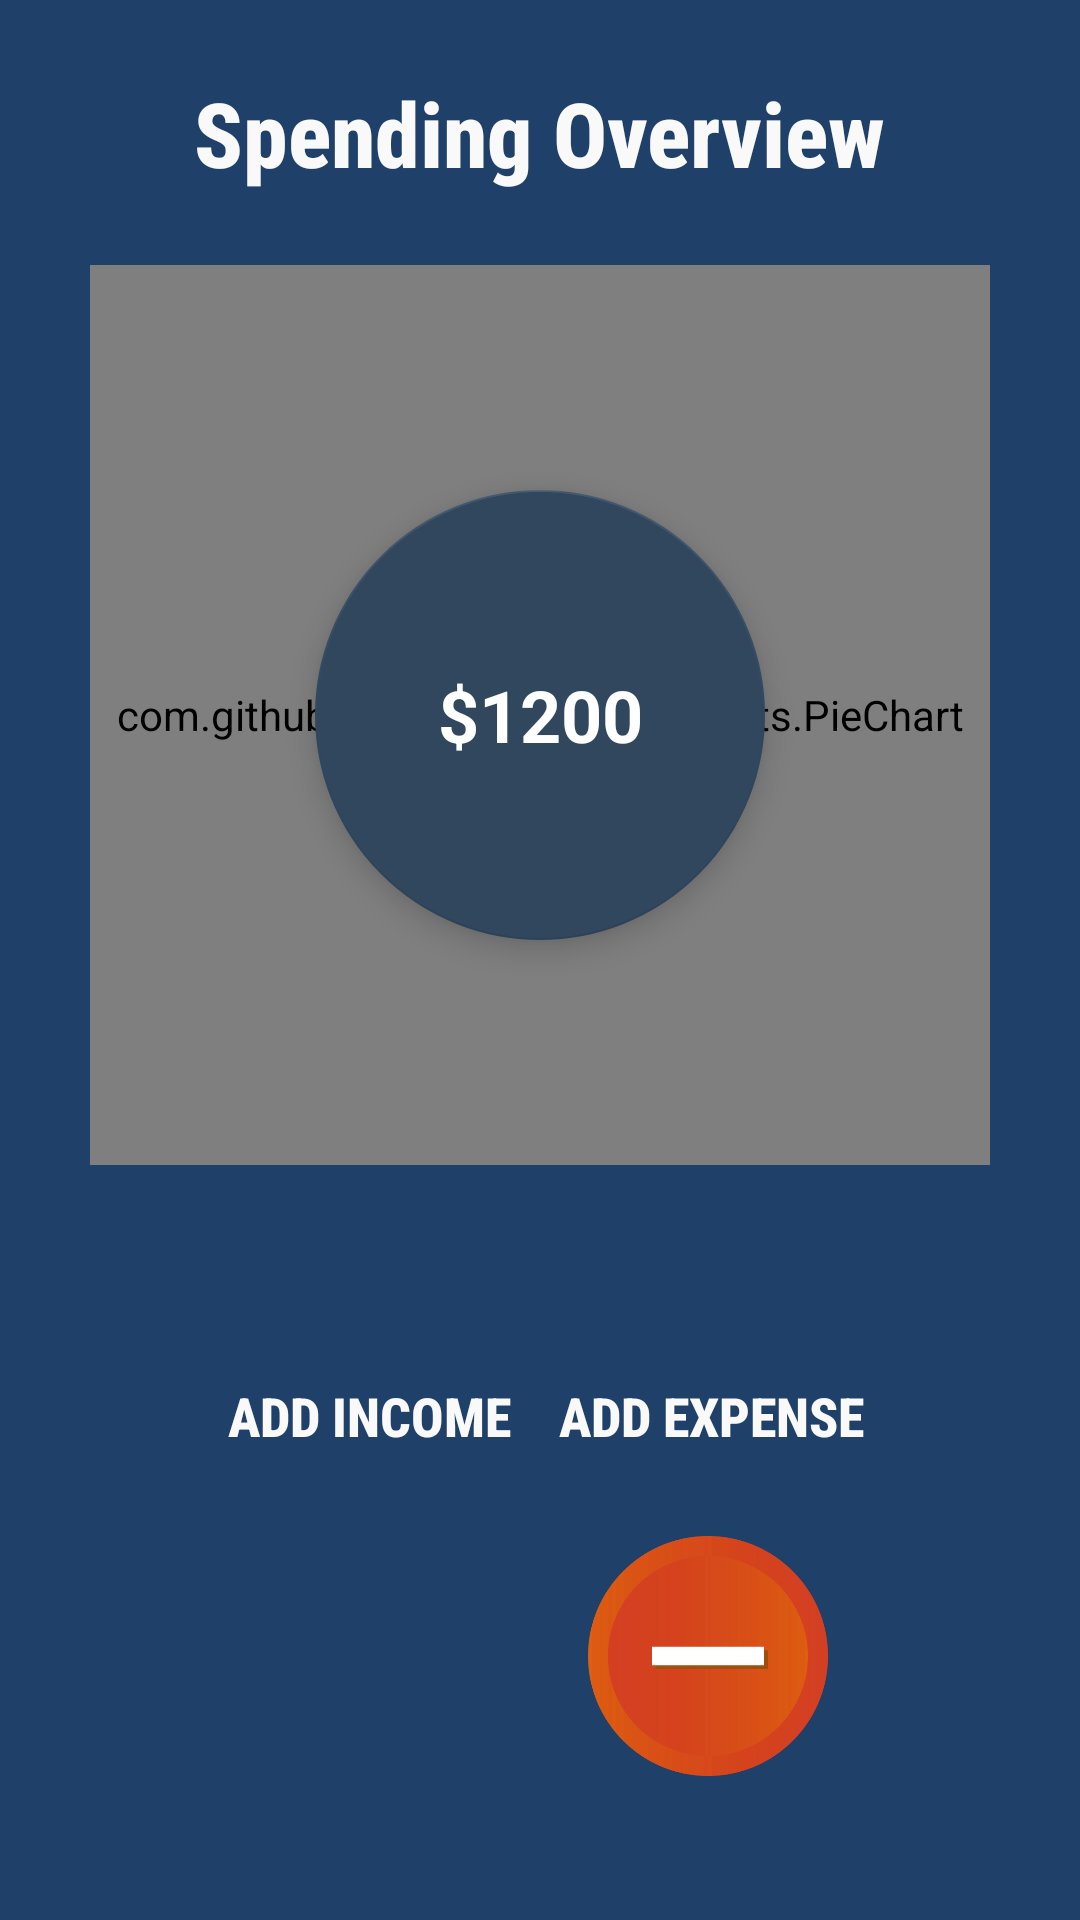

Icon bounding boxes for this 1080px×1920px phone screenshot, format (x1, y1, x2, y2):
minus: (588, 1536, 828, 1776)
